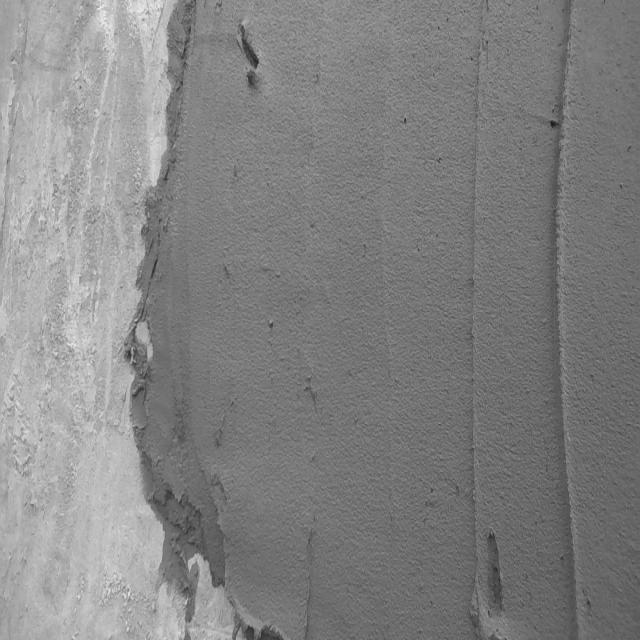trowels marks: (552, 3, 587, 640), (467, 29, 484, 561)
